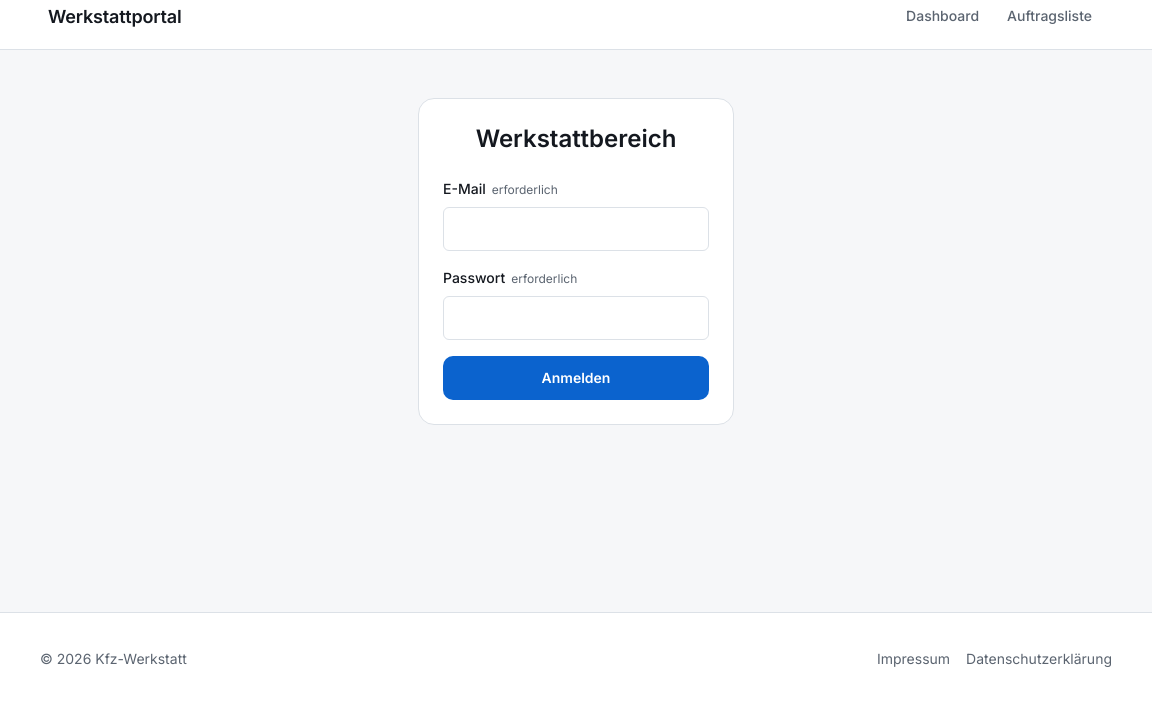
Test: WorkshopLogin › shows the API message on a wrong credential (401) and stays on the page
Type "anna@werkstatt.de" into the field labelled "E-Mail". click: (576, 229)
box: [443, 207, 709, 251]
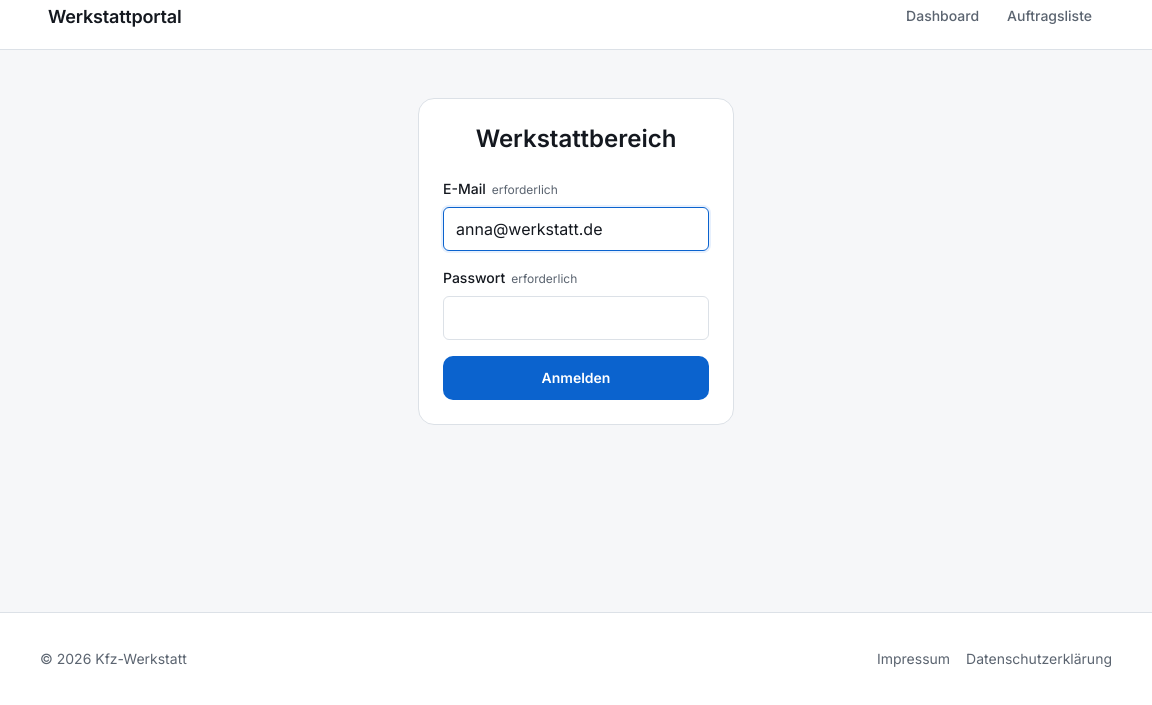
Type "falsch" into the password field labelled "Passwort". click: (576, 318)
box: [443, 296, 709, 340]
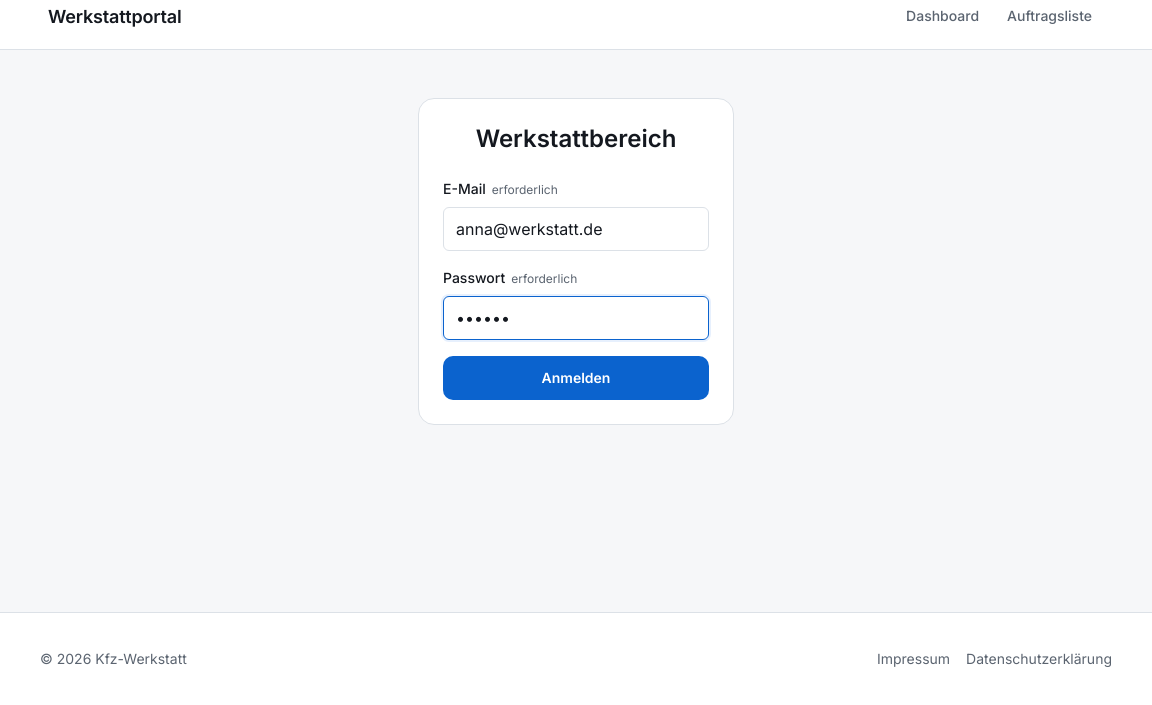
Click the button "Anmelden". click: (576, 378)
box: [443, 356, 709, 400]
(page scrolled)
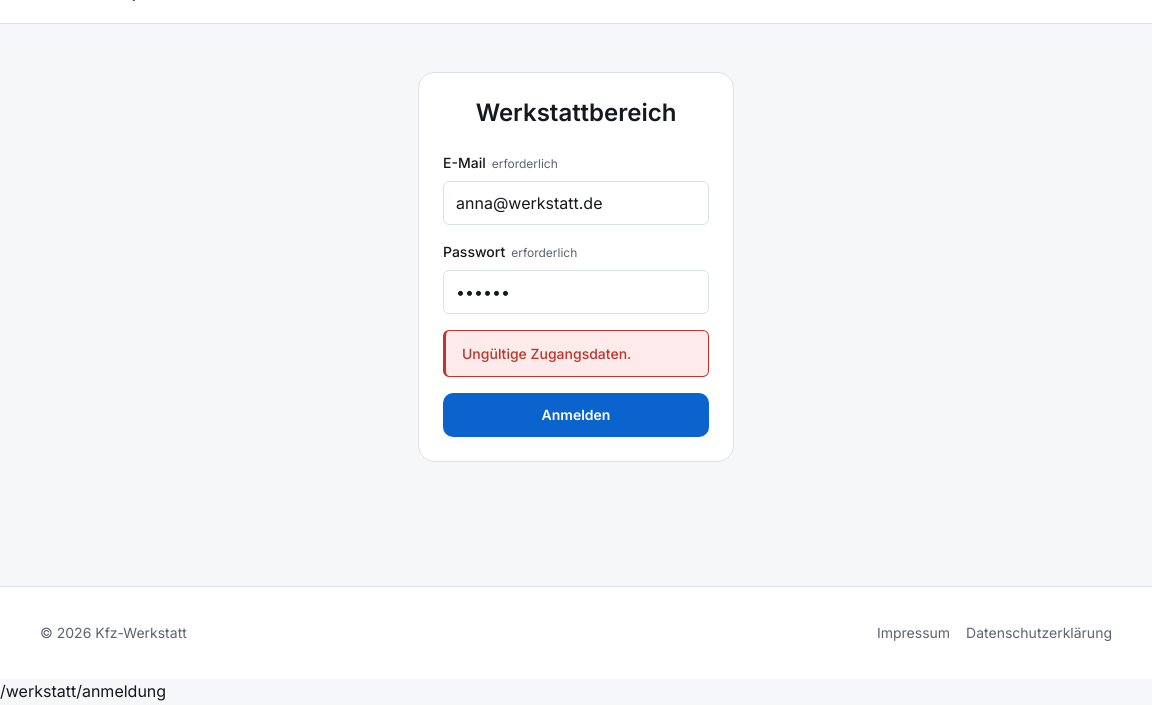
Check: the text with test id "location" reads "/werkstatt/anmeldung", box [0, 681, 166, 701]
Check: the message with test id "login-alert" reads "Ungültige Zugangsdaten.", box [462, 345, 631, 362]
